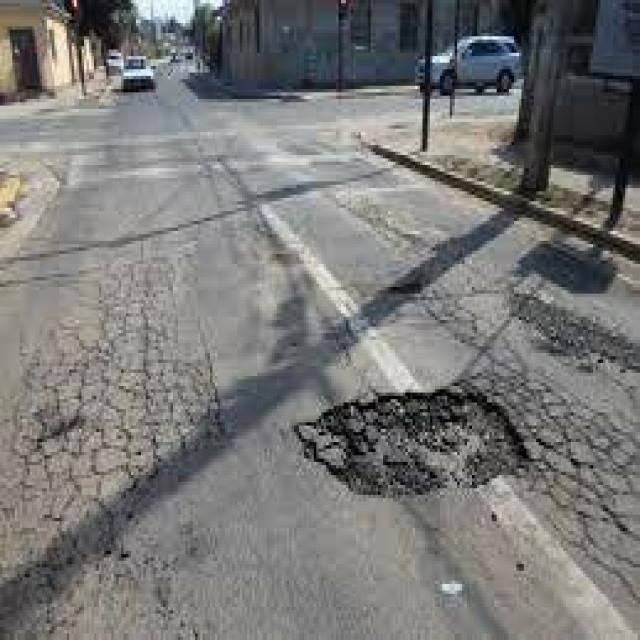pothole: (287, 347, 626, 591)
